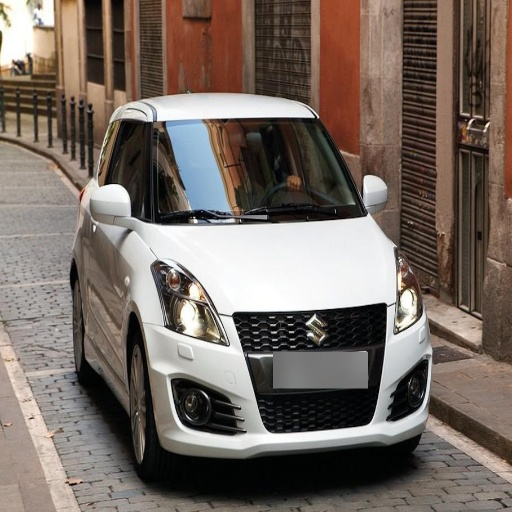front_bumper: (147, 299, 427, 458)
front_glass: (137, 118, 362, 223)
front_left_door: (108, 121, 145, 187)
front_left_light: (390, 269, 423, 334)
front_right_door: (90, 160, 138, 374)
front_right_light: (151, 262, 229, 345)
hood: (157, 217, 403, 313)
